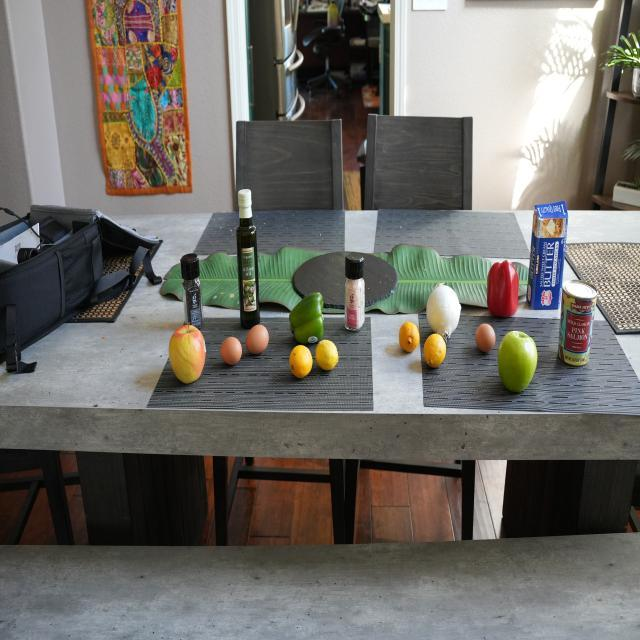bell_pepper: (177, 249, 209, 339), (289, 290, 329, 344), (487, 260, 521, 322)
egg: (220, 334, 246, 368), (246, 325, 271, 359)
onion: (426, 283, 463, 339)
